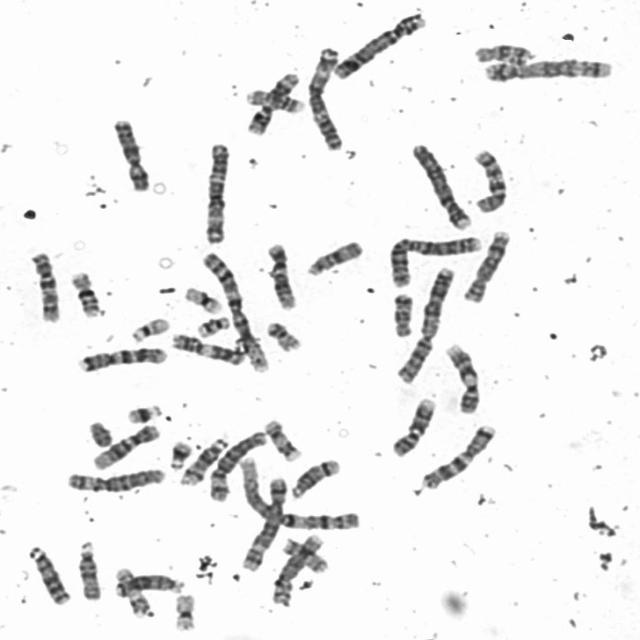A1: (236, 453, 362, 532), (197, 249, 270, 373)
A2: (392, 263, 458, 385), (385, 232, 484, 288)
A3: (304, 43, 346, 151), (201, 139, 232, 245)
B4: (330, 9, 429, 81), (408, 139, 472, 232)
B5: (238, 472, 290, 573), (480, 55, 614, 84)
C10: (468, 149, 510, 216), (28, 252, 63, 324)
C11: (244, 68, 302, 136), (168, 330, 246, 367)
C12: (89, 421, 161, 472), (264, 241, 298, 312)
C6: (207, 427, 269, 502), (63, 464, 166, 494)
C7: (420, 422, 498, 490), (74, 343, 168, 374)
C8: (268, 531, 327, 607), (460, 227, 512, 304)
C9: (388, 394, 438, 458), (441, 341, 482, 415)
D13: (26, 542, 71, 607), (112, 570, 186, 599)
D14: (176, 433, 228, 487), (287, 455, 342, 500)
D15: (301, 238, 365, 278), (75, 538, 103, 602)
E16: (68, 268, 103, 319), (245, 88, 307, 116)
E17: (113, 565, 151, 619), (260, 417, 302, 462)
E18: (470, 41, 534, 65), (389, 290, 416, 339)
F19: (180, 284, 224, 316), (170, 589, 198, 634)
F20: (282, 537, 332, 575), (264, 319, 302, 352)
G21: (123, 401, 164, 425), (166, 437, 193, 471)
G22: (127, 314, 172, 344), (193, 313, 232, 338)
X: (110, 115, 152, 192)
Y: (84, 418, 116, 449)
